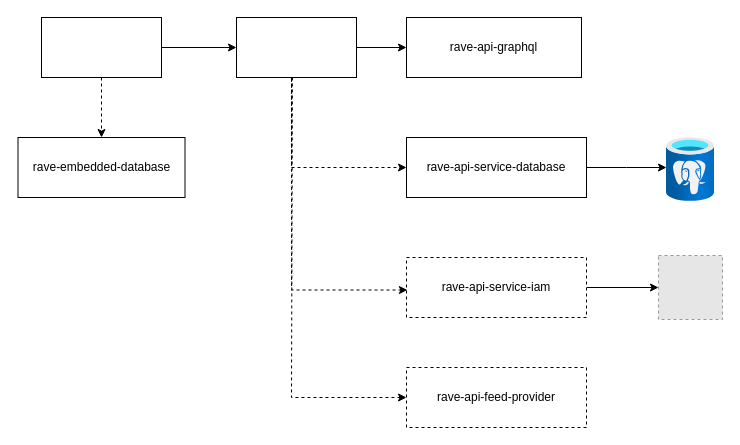
The diagram is 740 pixels wide and 445 high, and some of its shapes have lost their labels. Grey dashed boxes stand in for pictures. The box of each missing label's shape, as (x1, y1, x2, y2) in pixels:
CLI interface: (40, 16, 162, 78)
rave-api: (236, 16, 356, 78)
